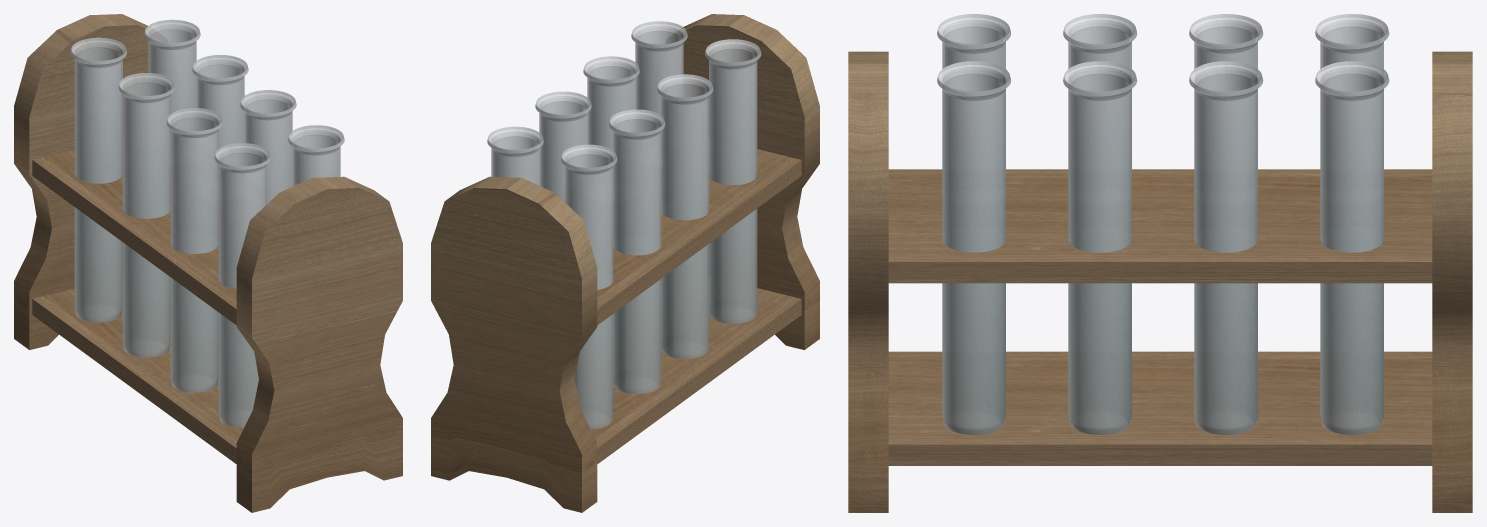
The model's file is test_tube_rack.glb.
3 renders of one model, left to right at view 1: azimuth 30°, elevation 25°; view 2: azimuth 150°, elevation 25°; view 3: azimuth 270°, elevation 25°, orthographic. The views are drawn at different scales.
Parts seen in each view (by area): view 1: Cube, Cylinder; view 2: Cube, Cylinder; view 3: Cube, Cylinder.
Part boxes in pixels (left/top/right/bottom): Cube: left=14, top=14, right=402, bottom=512; Cylinder: left=70, top=19, right=344, bottom=427; Cube: left=431, top=14, right=819, bottom=512; Cylinder: left=487, top=21, right=761, bottom=429; Cube: left=848, top=51, right=1472, bottom=512; Cylinder: left=937, top=14, right=1389, bottom=434.
Bounding box in the file's own units: 2.27 × 4.52 × 6.2.
Materials: 2 (2 with a texture image).
